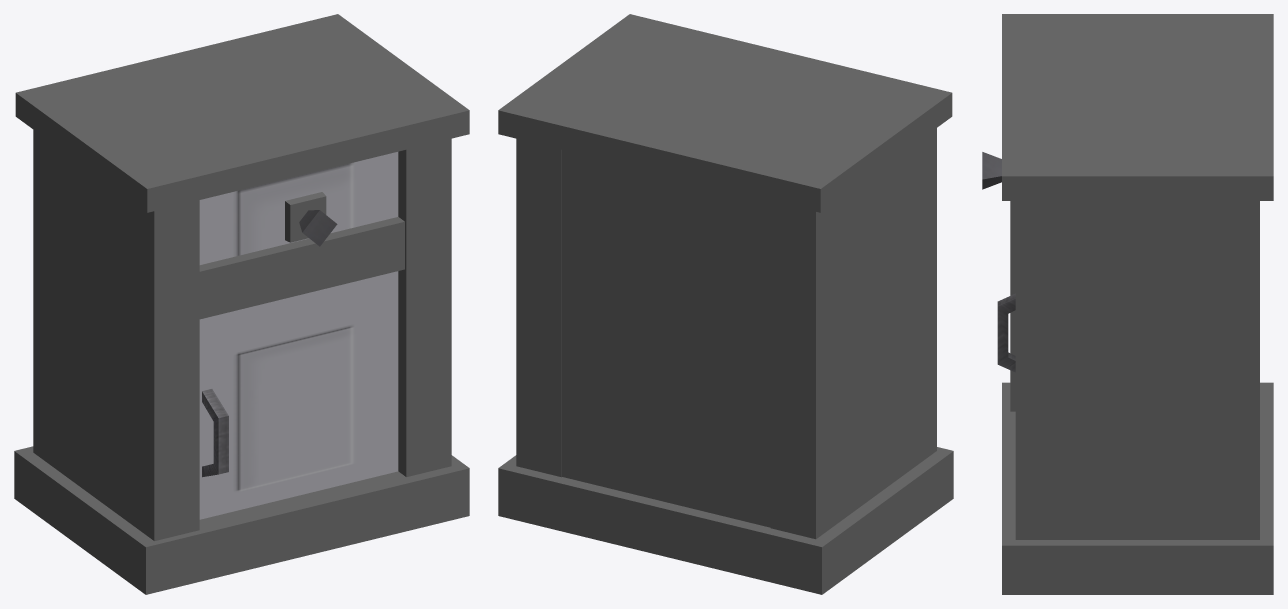
The model's file is Cupboard_6_2.fbx.
3 views of the same model, side by side, from view 1: azimuth 30°, elevation 25°; view 2: azimuth 150°, elevation 25°; view 3: azimuth 270°, elevation 25° (orthographic). The views are drawn at different scales.
Parts seen in each view (by area): view 1: polySurface1573; view 2: polySurface1573; view 3: polySurface1573.
Part boxes in pixels (box(x1,y1,x2,y2)): polySurface1573: box(14, 14, 469, 594); polySurface1573: box(498, 14, 953, 594); polySurface1573: box(982, 14, 1273, 594).
Size of the model in its own units: 0.7104 by 0.85 by 0.5362.
